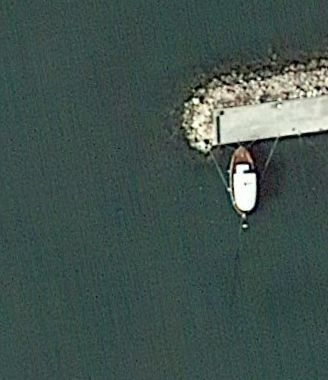boat: (226, 145, 262, 221)
